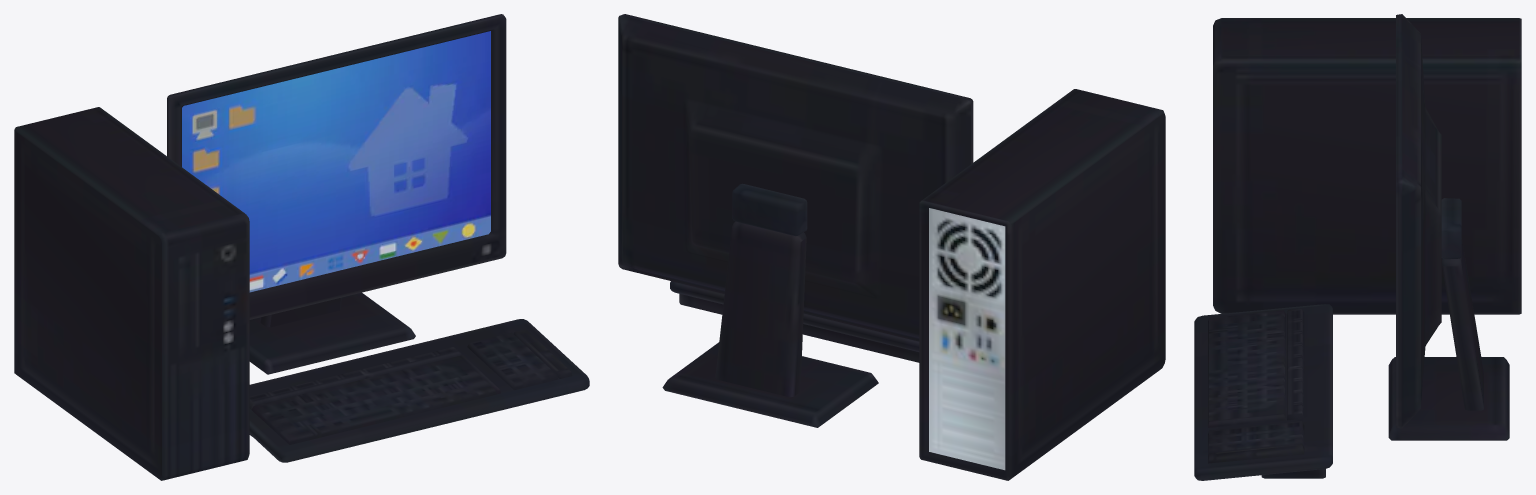
3 renders of one model, left to right at view 1: azimuth 30°, elevation 25°; view 2: azimuth 150°, elevation 25°; view 3: azimuth 270°, elevation 25°, orthographic. The views are drawn at different scales.
Bounding box in the file's own units: 8.68 × 5.73 × 5.53.
2 materials, 2 textured.
